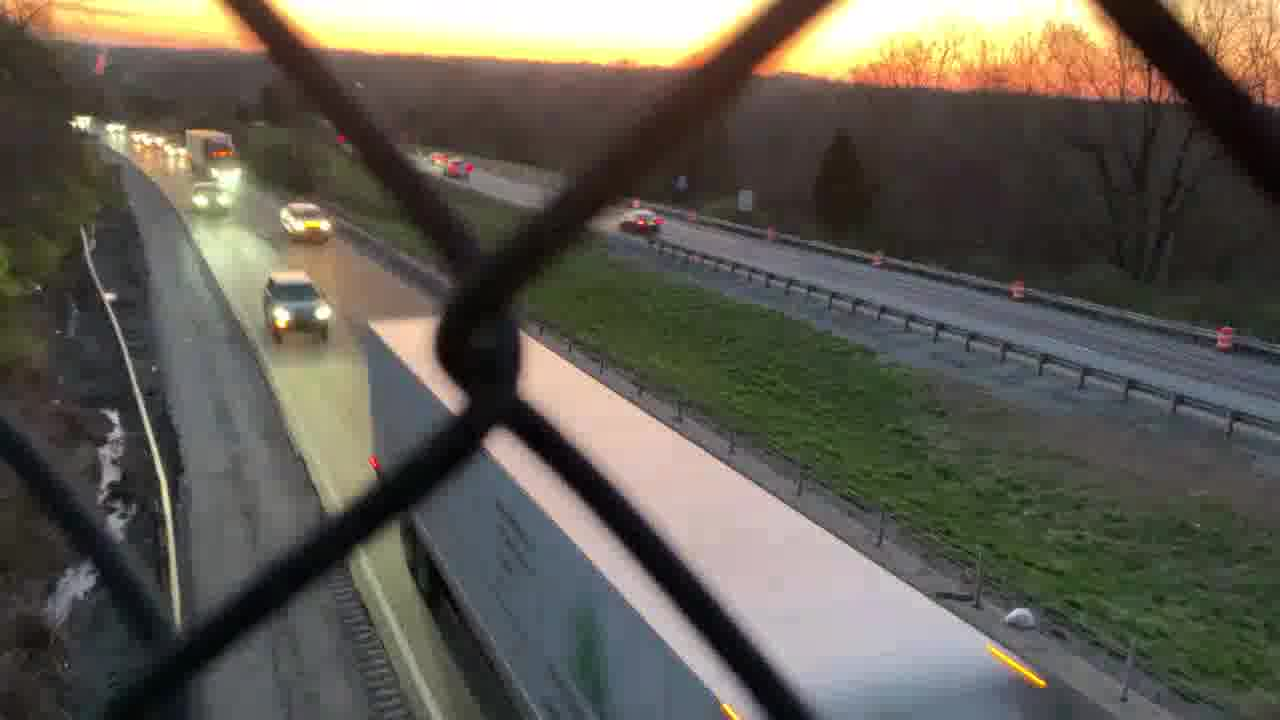heavyTruck: (366, 308, 1077, 720)
largeCar: (259, 273, 336, 342)
smallCar: (617, 208, 664, 233)
